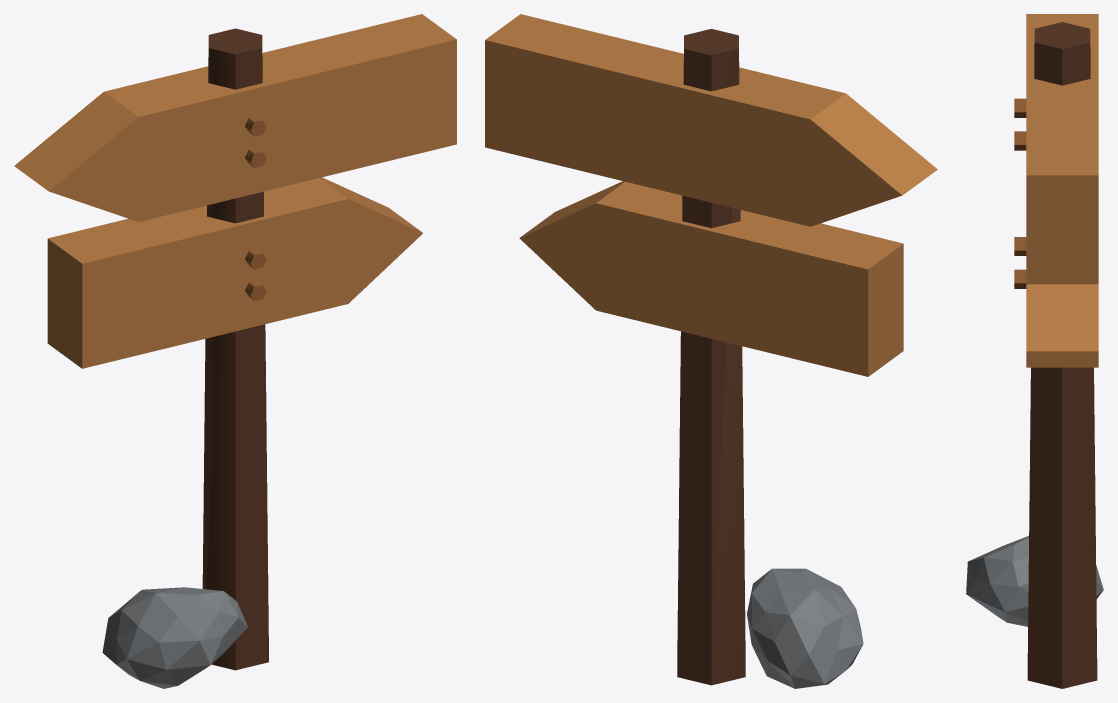
Rendered from 08_trail_sign.fbx.
The picture shows the model from 3 angles, left to right: view 1: azimuth 30°, elevation 25°; view 2: azimuth 150°, elevation 25°; view 3: azimuth 270°, elevation 25°; orthographic projection. The views are drawn at different scales.
Visible parts, largest first — view 1: 08_trail_sign; view 2: 08_trail_sign; view 3: 08_trail_sign.
Boxes of the visible parts, x1,y1,x2,y2 form: 08_trail_sign: (14, 14, 456, 688); 08_trail_sign: (485, 14, 937, 688); 08_trail_sign: (966, 14, 1103, 688).
Bounding box in the file's own units: 1.22 × 1.75 × 0.3433.
1 material, 1 textured.
